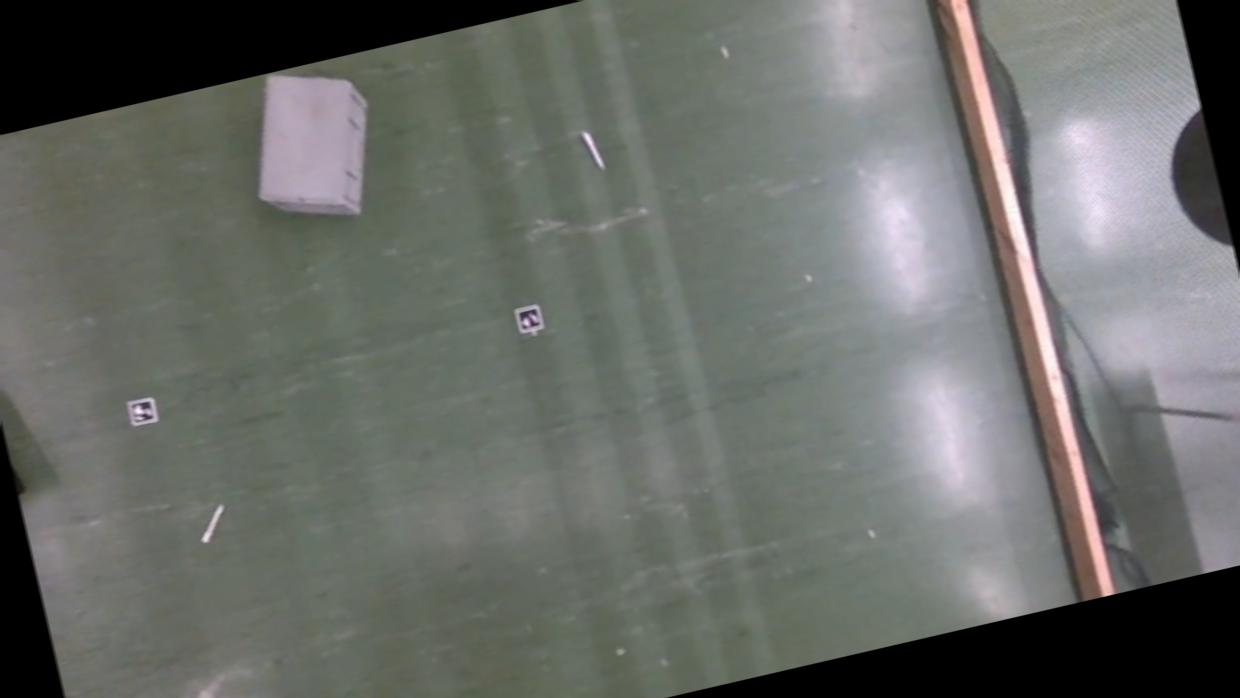probes: (196, 505, 230, 544), (580, 128, 606, 174)
rako: (231, 55, 392, 238)
